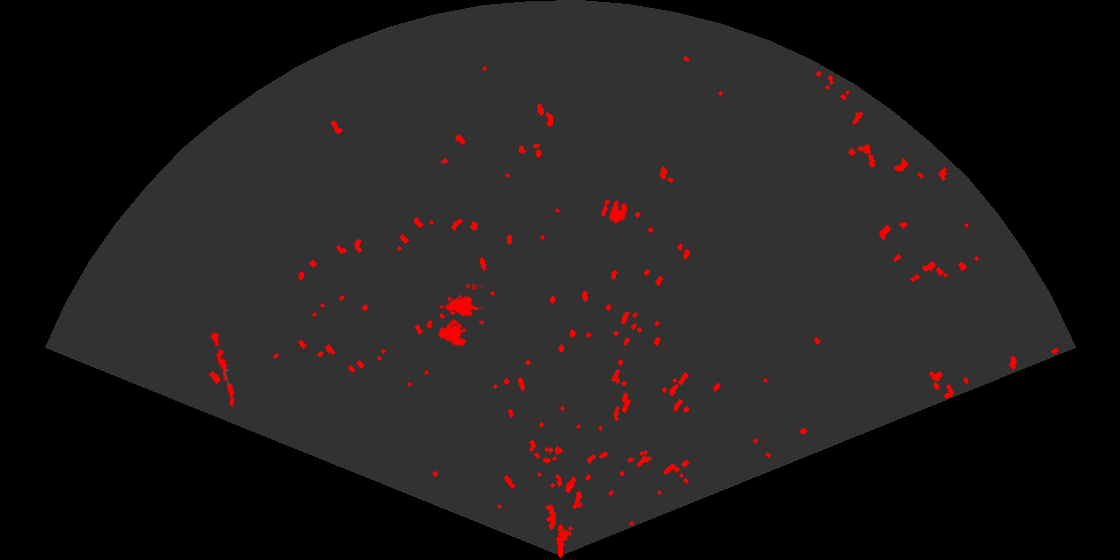ball: (600, 197, 629, 225)
cage: (436, 284, 484, 348)
chain: (209, 327, 237, 409)
